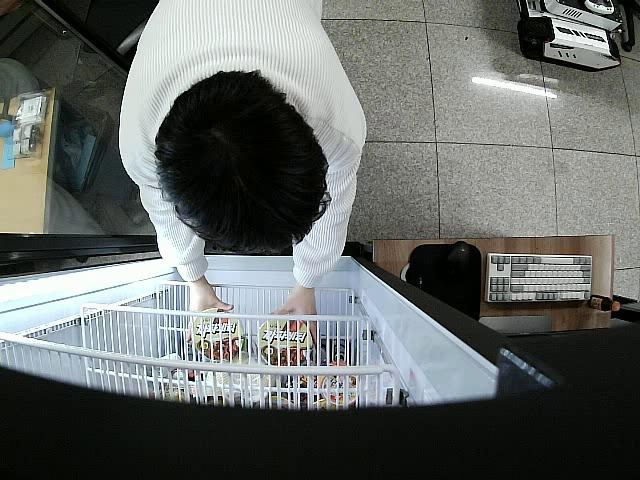00_hand: (185, 289, 235, 342), (274, 293, 318, 345)
03_chapagetti_L: (258, 317, 315, 366), (193, 309, 245, 361)
